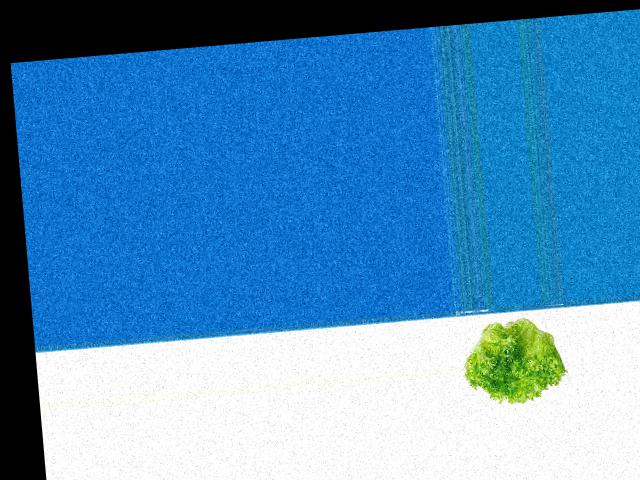lettuce: (459, 309, 566, 410)
